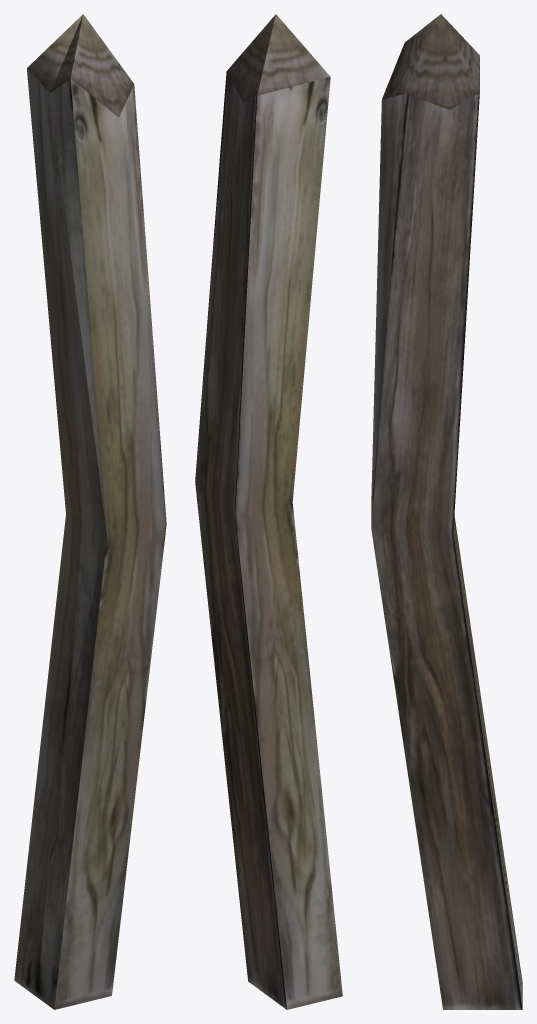
File: shanty_signpost.fbx
The picture shows the model from 3 angles, left to right: view 1: azimuth 30°, elevation 25°; view 2: azimuth 210°, elevation 25°; view 3: azimuth 270°, elevation 25°; orthographic projection. The views are drawn at different scales.
Parts seen in each view (by area): view 1: High; view 2: High; view 3: High.
Boxes of the visible parts, bbox=[...] form: High: bbox=[14, 14, 166, 1009]; High: bbox=[195, 14, 342, 1009]; High: bbox=[371, 14, 522, 1009].
Bounding box in the file's own units: 126 × 1400 × 195.
1 material, 1 textured.
